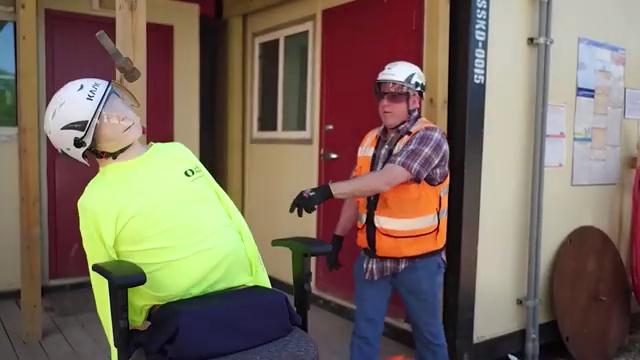helmet: (25, 68, 110, 174), (365, 55, 433, 100)
jacket: (347, 109, 451, 255)
